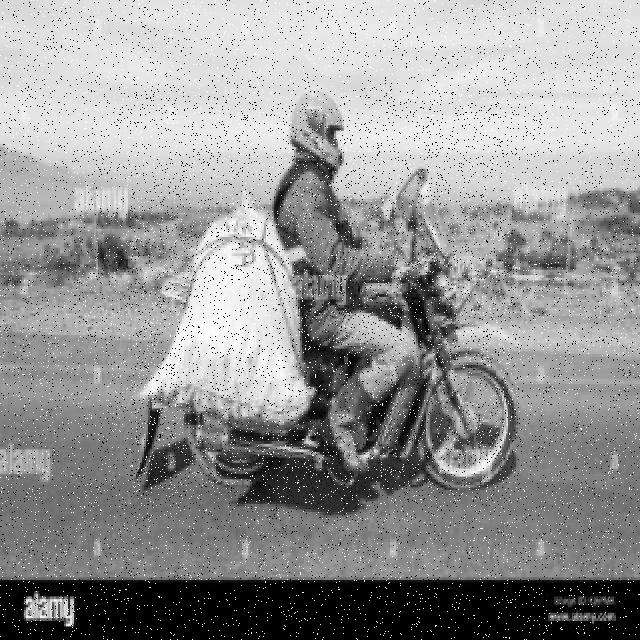Motorbike: (130, 91, 519, 504)
